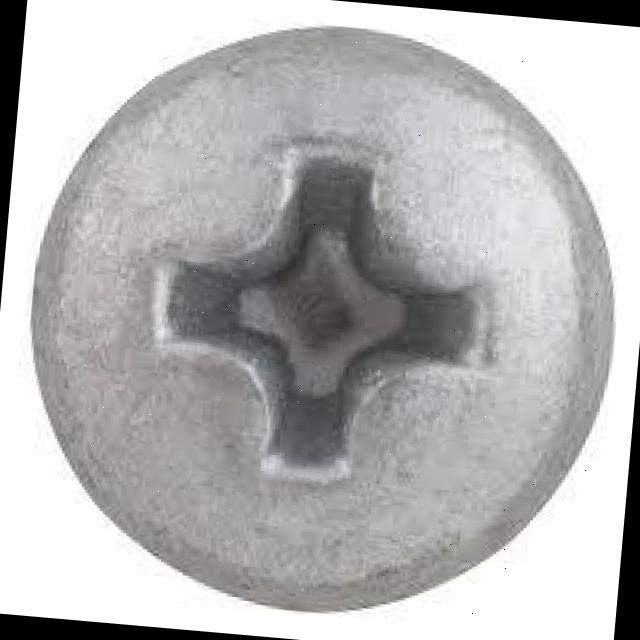Phillips: (5, 3, 636, 634)
